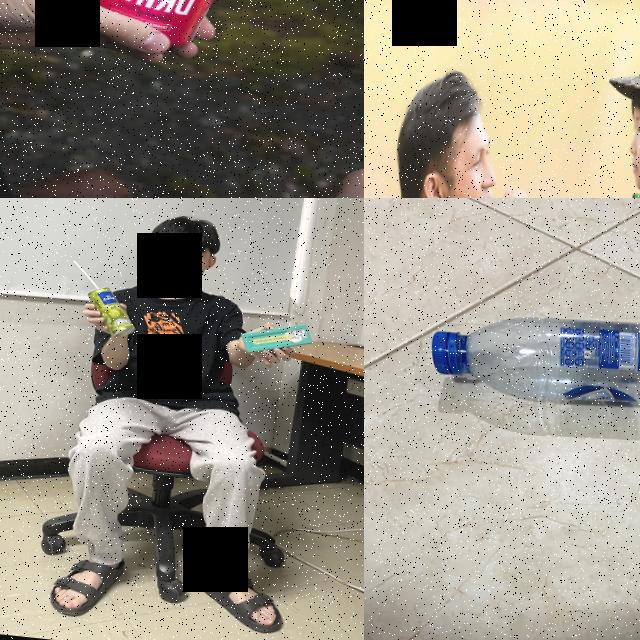bottle: (421, 287, 640, 433)
can: (77, 0, 246, 58), (83, 284, 138, 340)
